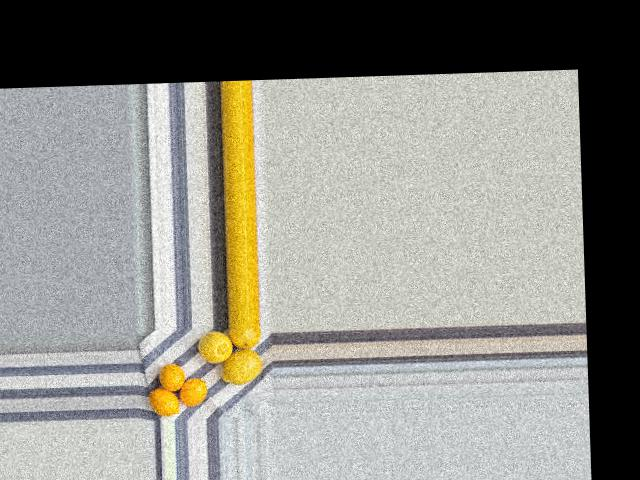lemon: (228, 325, 265, 351)
